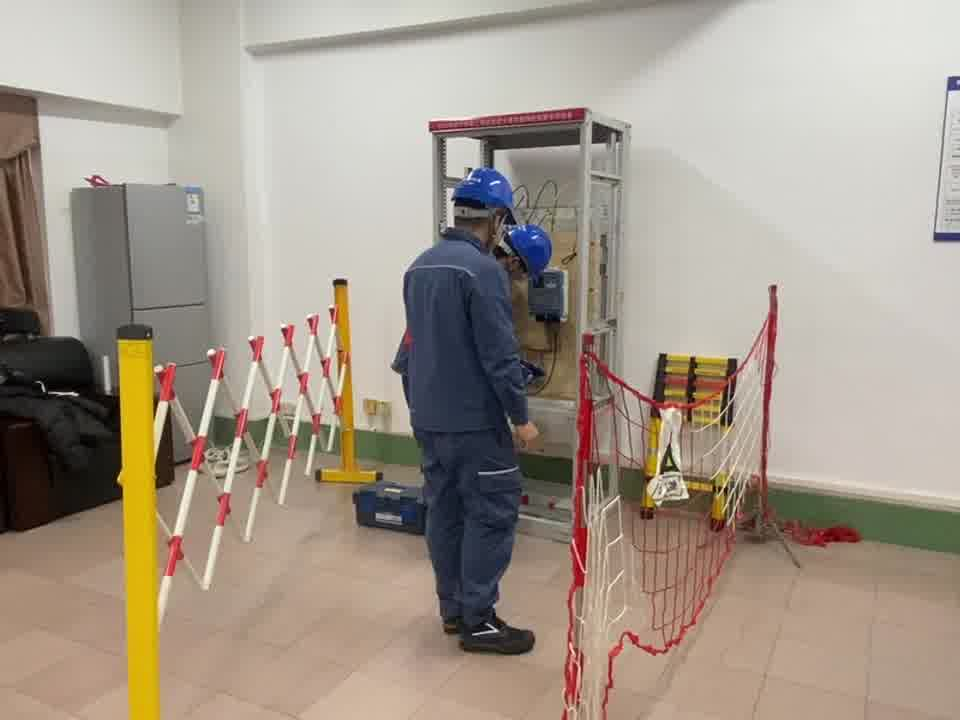downsuit: (420, 443, 520, 625)
halt: (450, 166, 519, 226), (505, 223, 555, 278)
hand: (513, 418, 544, 458)
inear: (484, 207, 505, 240)
person: (391, 164, 544, 652)
upsuit: (393, 233, 531, 428)
